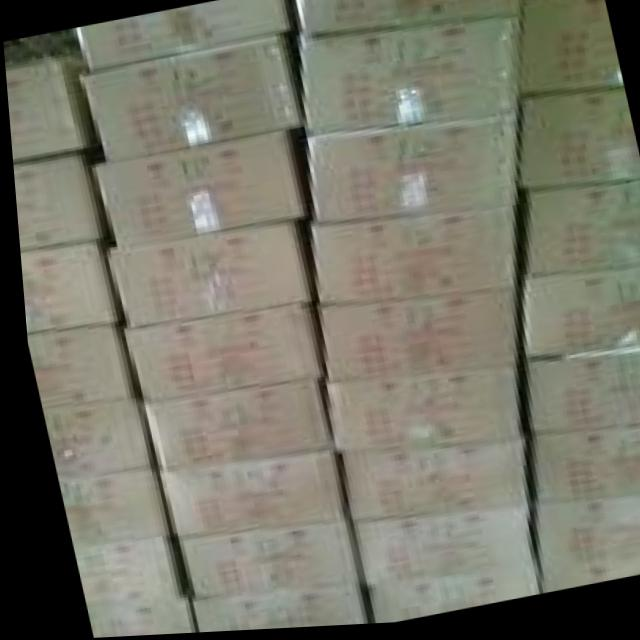box: (79, 39, 302, 162), (301, 24, 520, 137), (93, 133, 305, 249), (101, 224, 309, 327), (307, 121, 514, 224), (306, 213, 509, 309), (118, 307, 317, 402), (317, 296, 509, 388), (150, 454, 340, 539), (135, 384, 323, 469), (75, 0, 292, 71), (321, 373, 511, 453), (168, 524, 349, 604), (336, 446, 518, 524), (342, 513, 525, 589), (516, 96, 637, 194), (522, 187, 640, 283), (520, 274, 640, 366), (521, 356, 640, 440), (519, 0, 618, 99), (4, 58, 100, 160), (21, 325, 126, 412), (16, 242, 111, 334), (358, 576, 528, 626), (527, 432, 640, 507), (529, 500, 640, 575), (11, 155, 100, 248), (299, 0, 522, 36), (54, 472, 159, 545), (37, 404, 141, 476), (66, 539, 173, 606), (181, 594, 357, 634), (78, 598, 185, 638)
